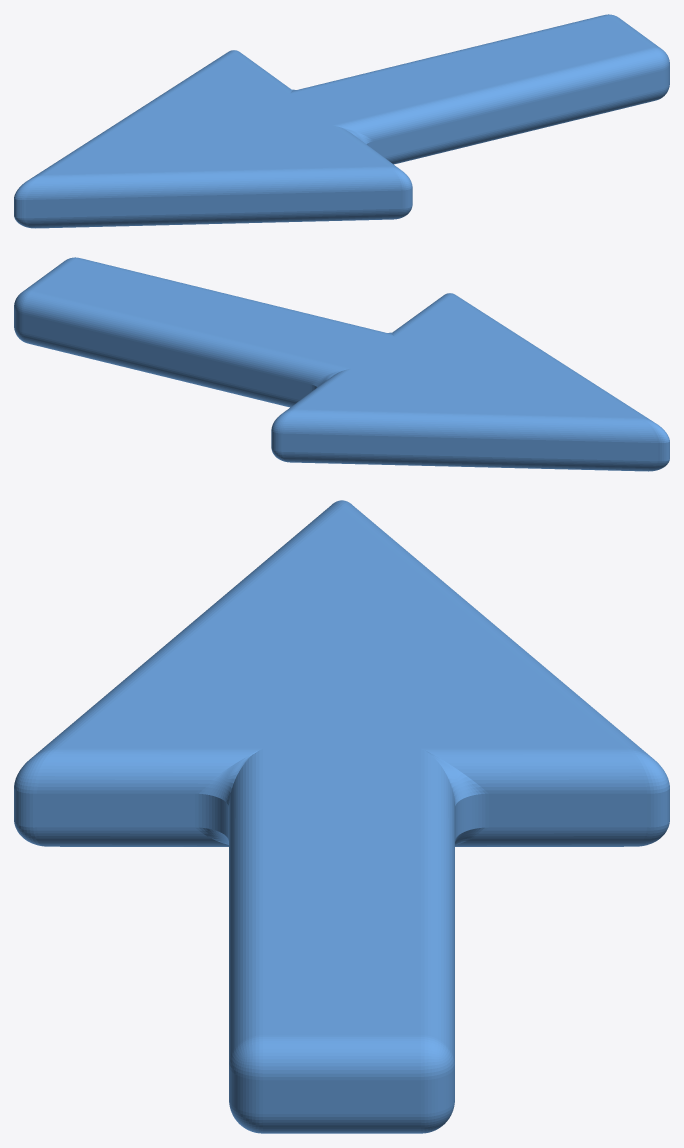
Rendered from ArrowModel.fbx.
3 views of the same model, one above another, from view 1: azimuth 30°, elevation 25°; view 2: azimuth 150°, elevation 25°; view 3: azimuth 270°, elevation 25° (orthographic). The views are drawn at different scales.
Visible parts, largest first — view 1: 평면; view 2: 평면; view 3: 평면.
Boxes of the visible parts, x1,y1,x2,y2 form: 평면: [14, 14, 669, 228]; 평면: [14, 257, 669, 471]; 평면: [14, 500, 669, 1133].
Bounding box in the file's own units: 396 × 31 × 194.
